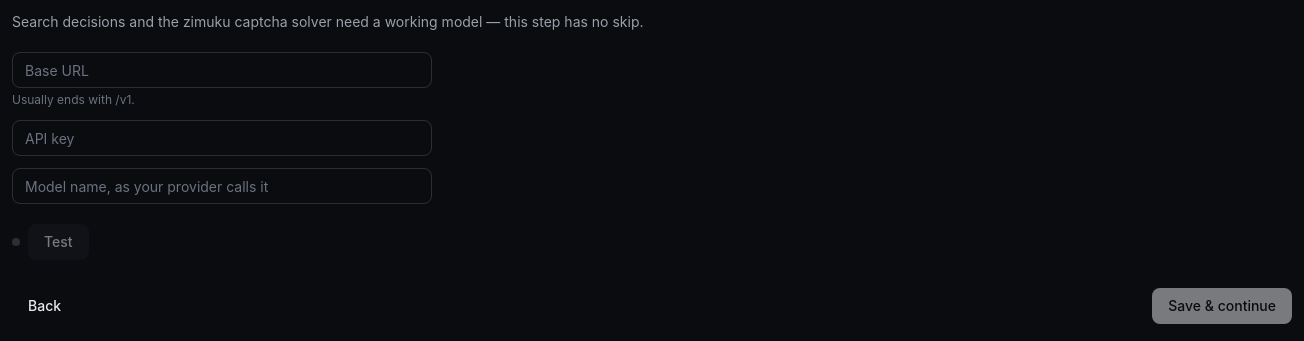
StepLlm › 测绿后改任一字段 → Save 重新禁用
This screenshot has width=1304, height=341.
Step 1. Type "https://api.example.com/v1" into the field labelled "Base URL" → (222, 70), box [12,52,432,88]
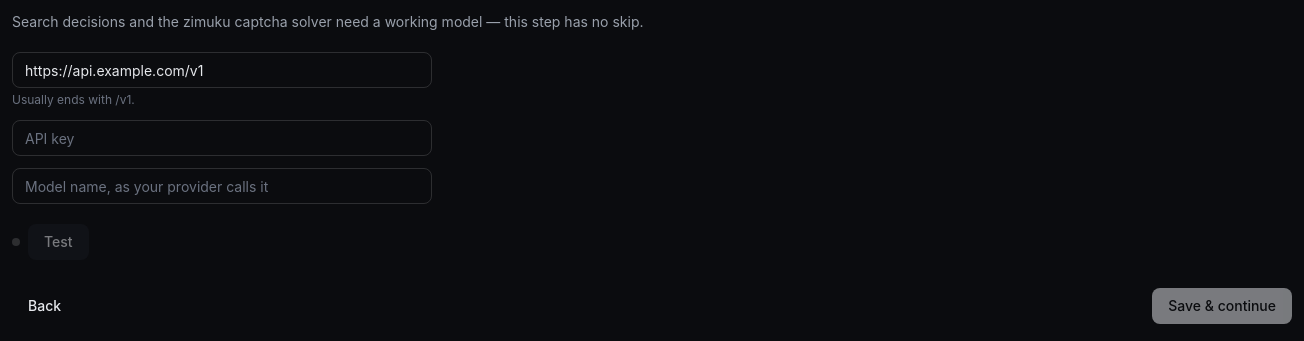
Step 2. Type "sk-1" into the password field labelled "API key" → (222, 138), box [12,120,432,156]
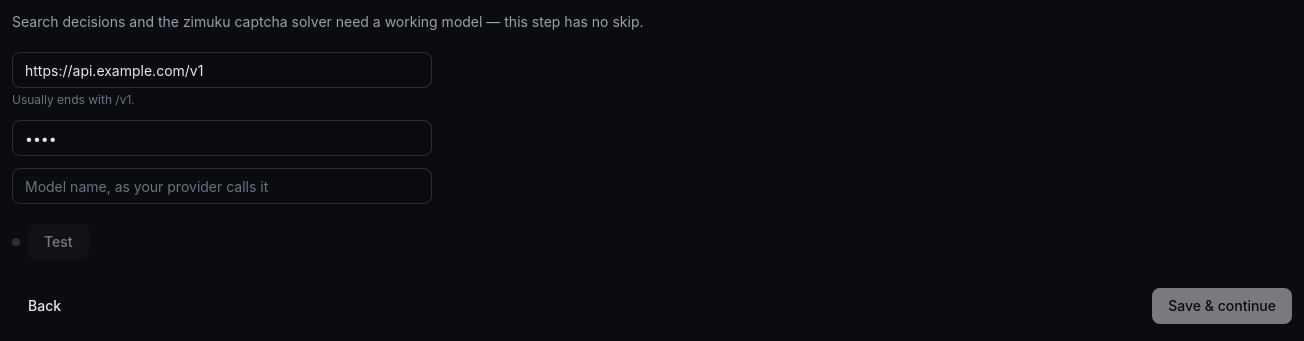
Step 3. Type "m-1" into the field labelled "Model" → (222, 186), box [12,168,432,204]
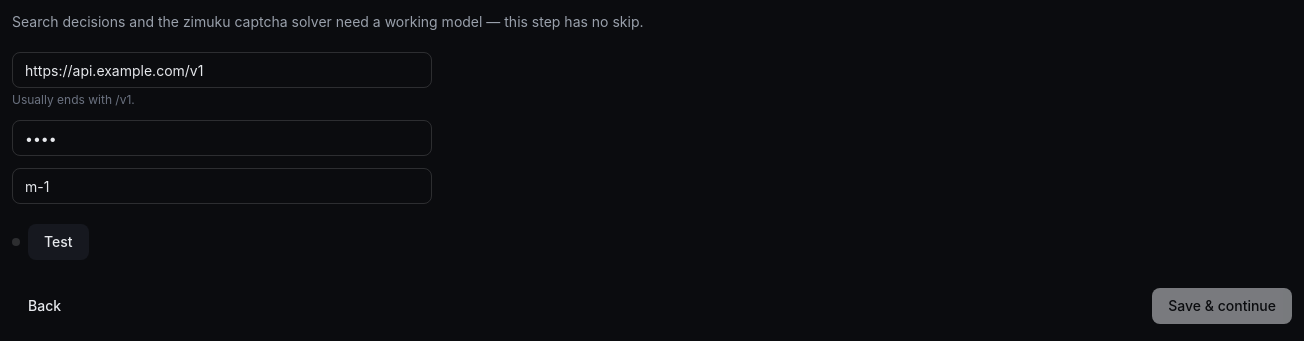
Step 4. Click the button "Test" → (58, 242), box [28,224,89,260]
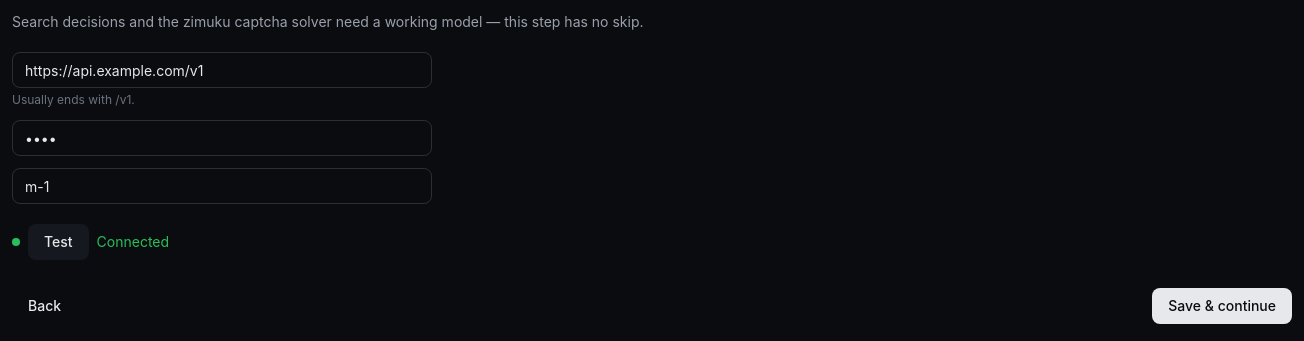
Result: the text "Connected" is shown at [97,232,169,252]
Step 5. Replace the text in the field named "Model" with "m-2" → (222, 186), box [12,168,432,204]
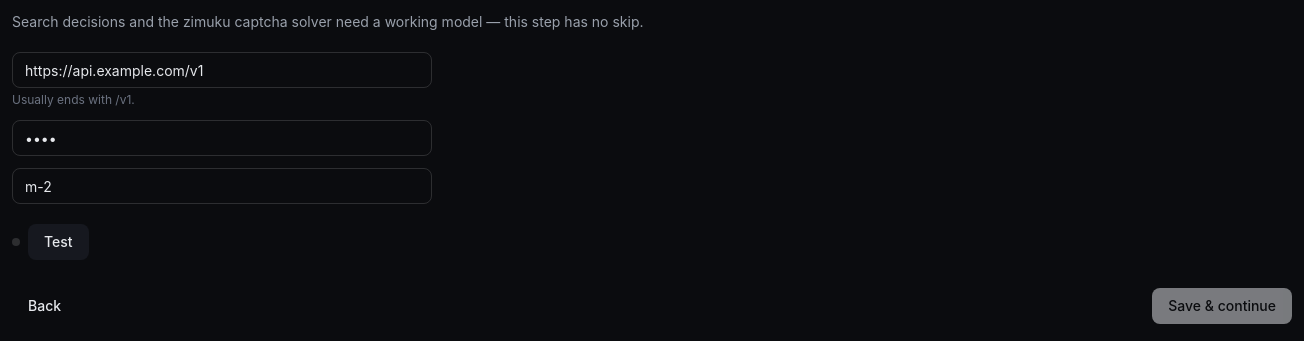
Result: the button "Save & continue" is disabled at [1152,288,1292,324]
